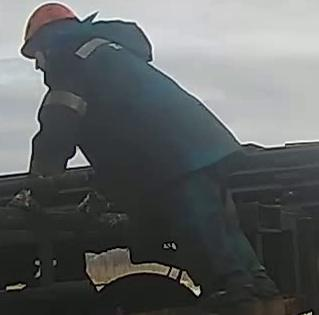gloves: (6, 184, 46, 213)
helmet: (17, 0, 81, 56)
vest: (46, 33, 245, 196)
